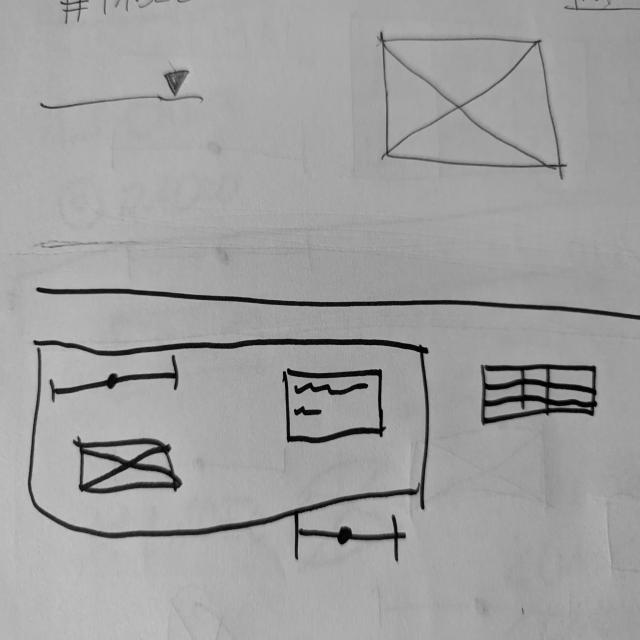container: (27, 337, 432, 542)
image: (378, 34, 569, 181), (75, 438, 184, 496)
select: (35, 68, 208, 114)
slider: (49, 355, 184, 406), (290, 513, 408, 564)
table: (480, 362, 599, 430)
textarea: (282, 368, 392, 448)
